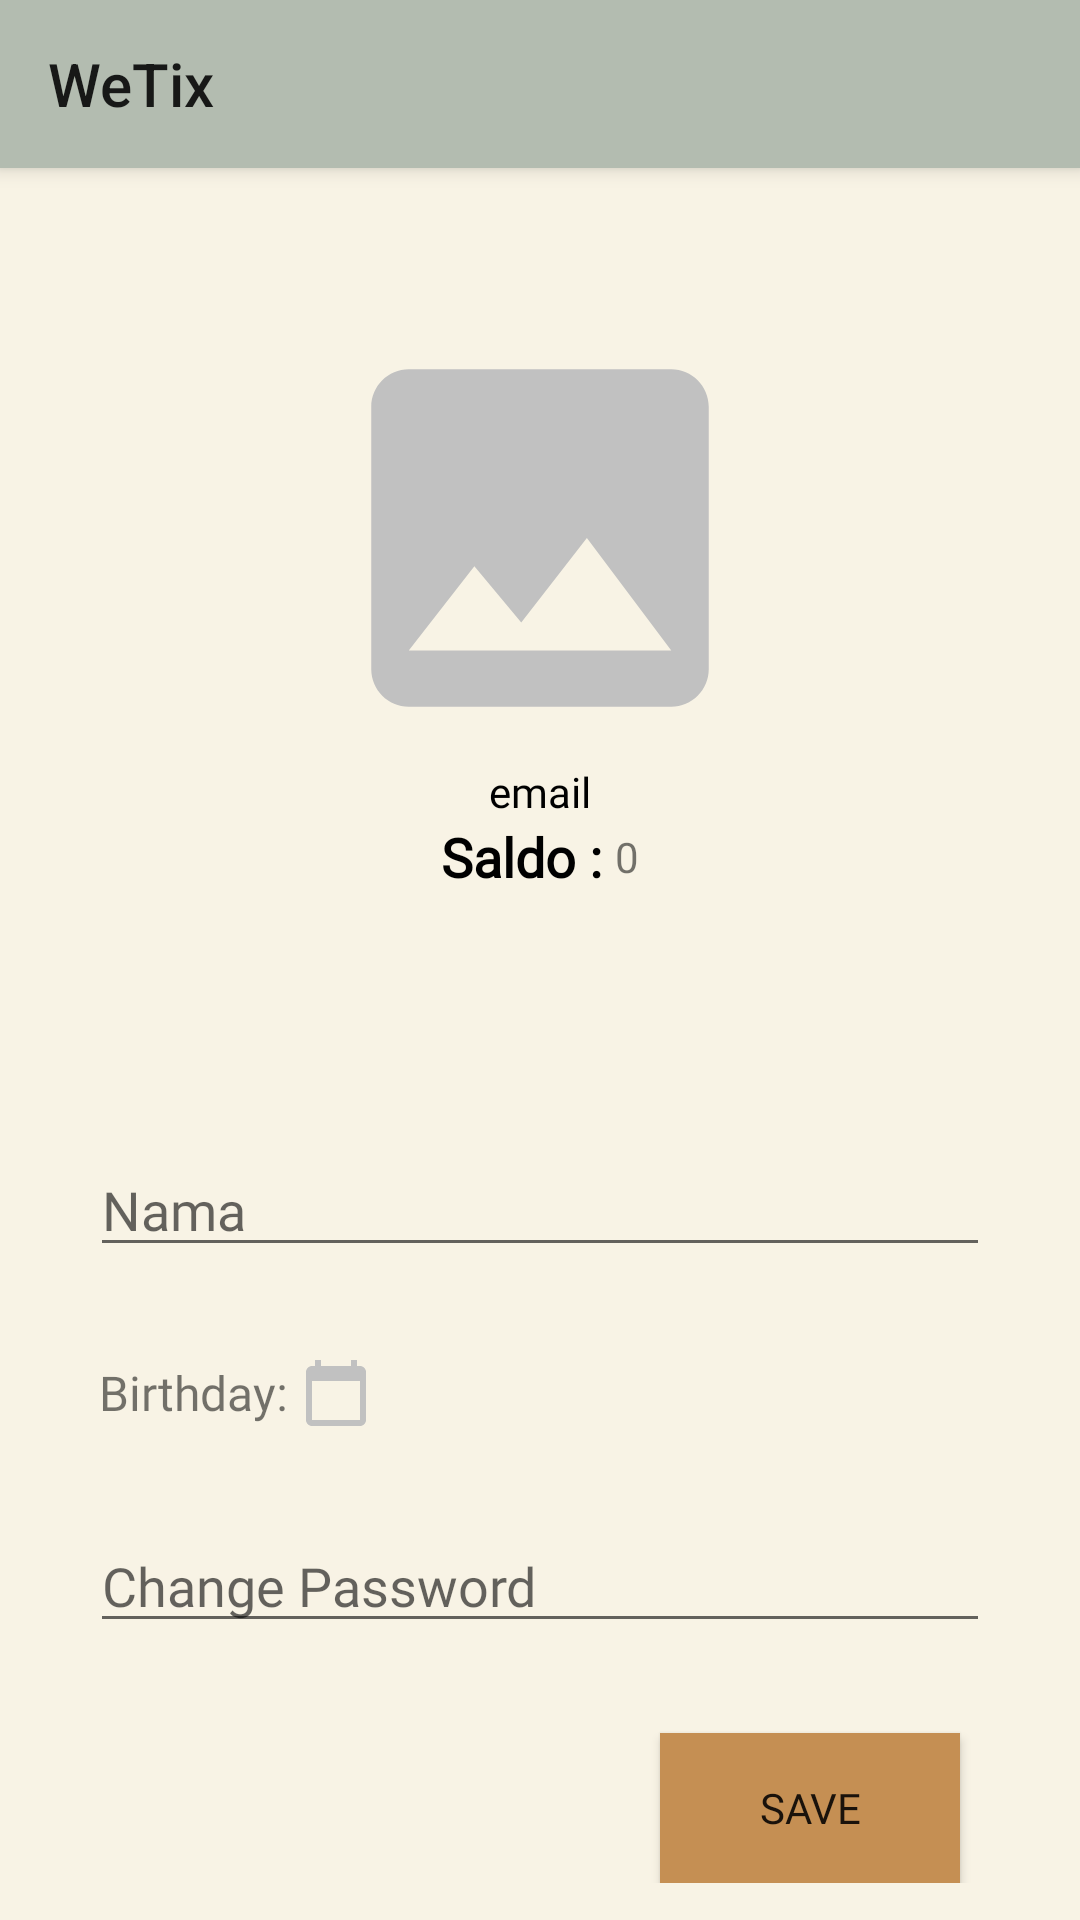

Icon bounding boxes for this 1080x1920 phone screenshot, format [left=x1, top=y1, right=x2, bottom=y2]:
calendar: [left=306, top=1360, right=366, bottom=1426]
